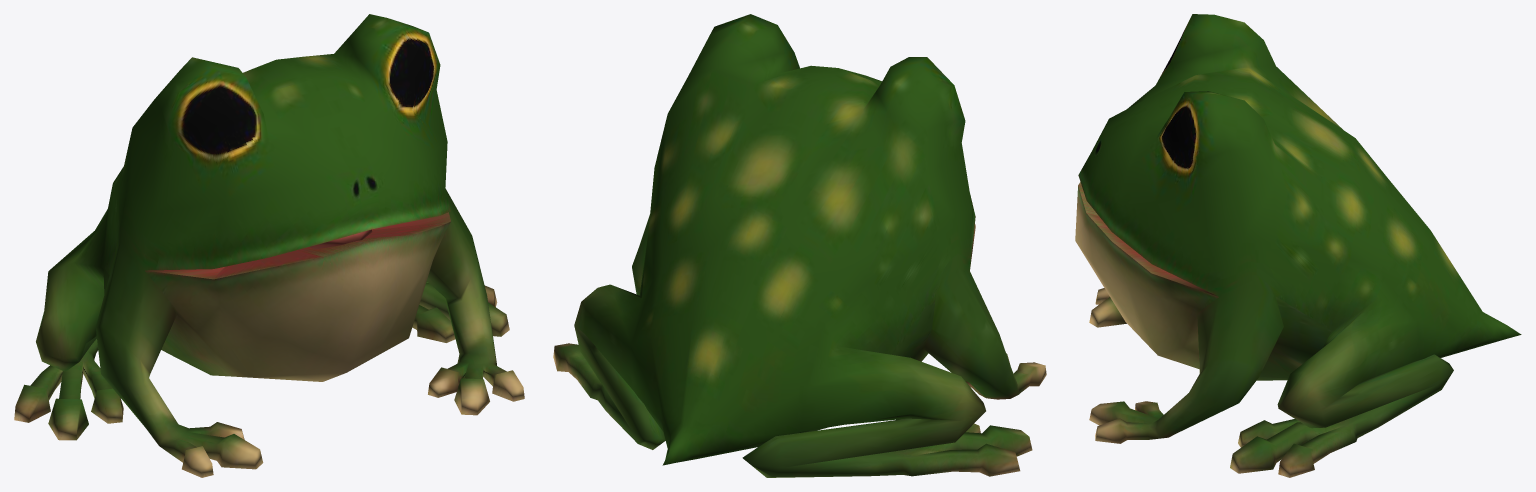
Rendered from Frog.obj.
The picture shows the model from 3 angles, left to right: view 1: azimuth 30°, elevation 25°; view 2: azimuth 150°, elevation 25°; view 3: azimuth 270°, elevation 25°; orthographic projection. The views are drawn at different scales.
Visible parts, largest first — view 1: _Frog; view 2: _Frog; view 3: _Frog.
Part boxes in pixels (box(x1,y1,x2,y2)): _Frog: box(14, 14, 524, 477); _Frog: box(553, 14, 1046, 477); _Frog: box(1075, 14, 1521, 477).
Bounding box in the file's own units: 1.61 × 1.13 × 1.43.
